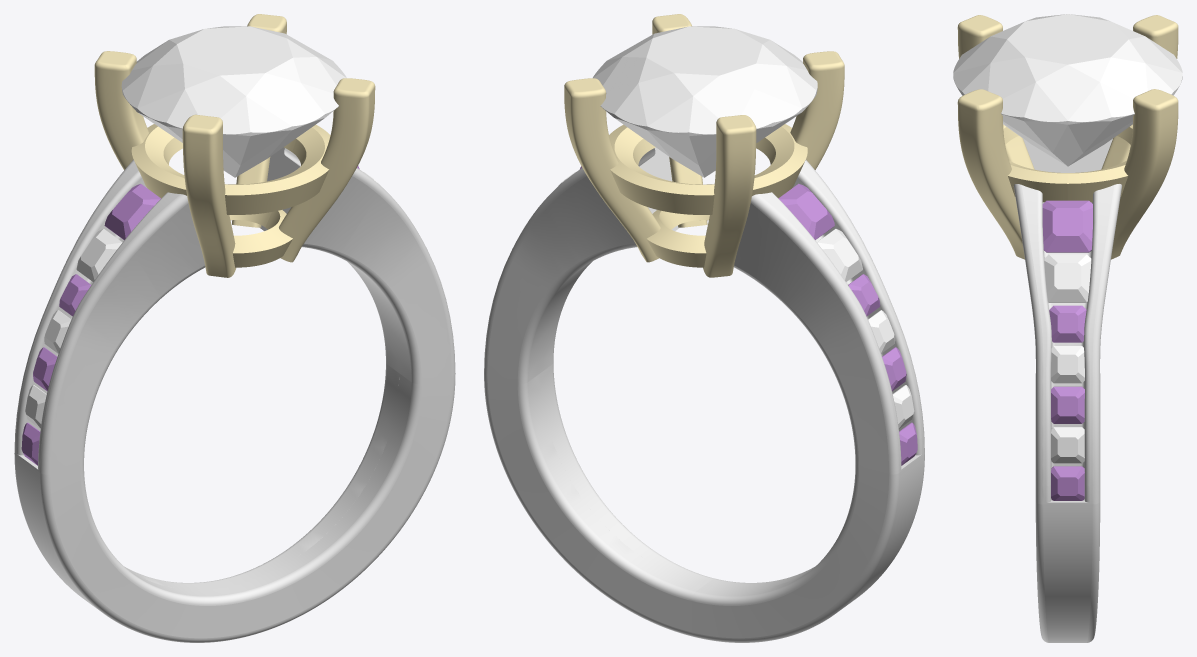
File: puzzle_61.glb
The picture shows the model from 3 angles, left to right: view 1: azimuth 30°, elevation 25°; view 2: azimuth 150°, elevation 25°; view 3: azimuth 270°, elevation 25°; orthographic projection.
Parts seen in each view (by area): view 1: G2_Obj_2_Gold2, G2_Obj_1_Dia_X, G2_Obj_6_Gold1, G2_Obj_7_Gold1, G2_Obj_4_Gold1, G2_Obj_3_Gold1, G2_Obj_5_Gold1, G1_Obj_8_Gem6, G1_Obj_12_Dia, G2_Obj_8_Gold1, G1_Obj_9_Gem6, G1_Obj_11_Dia (+2 smaller); view 2: G2_Obj_2_Gold2, G2_Obj_1_Dia_X, G2_Obj_6_Gold1, G2_Obj_8_Gold1, G2_Obj_3_Gold1, G2_Obj_4_Gold1, G2_Obj_5_Gold1, G1_Obj_8_Gem6, G2_Obj_7_Gold1, G1_Obj_12_Dia, G1_Obj_9_Gem6, G1_Obj_11_Dia (+2 smaller); view 3: G2_Obj_2_Gold2, G2_Obj_1_Dia_X, G2_Obj_8_Gold1, G2_Obj_7_Gold1, G2_Obj_6_Gold1, G1_Obj_7_Gem6, G1_Obj_13_Dia, G2_Obj_3_Gold1, G2_Obj_4_Gold1, G1_Obj_6_Gem6, G1_Obj_14_Dia, G1_Obj_5_Gem6 (+2 smaller).
Part boxes in pixels (<box>): G2_Obj_2_Gold2: <box>14,147,455,642</box>; G2_Obj_1_Dia_X: <box>121,26,346,177</box>; G2_Obj_6_Gold1: <box>131,124,330,214</box>; G2_Obj_7_Gold1: <box>279,78,375,262</box>; G2_Obj_4_Gold1: <box>182,114,236,277</box>; G2_Obj_3_Gold1: <box>94,51,149,169</box>; G2_Obj_5_Gold1: <box>229,210,292,267</box>; G1_Obj_8_Gem6: <box>104,184,160,240</box>; G1_Obj_12_Dia: <box>76,228,122,281</box>; G2_Obj_8_Gold1: <box>232,14,286,227</box>; G1_Obj_9_Gem6: <box>59,274,91,316</box>; G1_Obj_11_Dia: <box>44,310,71,353</box>; G2_Obj_2_Gold2: <box>484,147,924,642</box>; G2_Obj_1_Dia_X: <box>593,26,817,177</box>; G2_Obj_6_Gold1: <box>609,124,807,214</box>; G2_Obj_8_Gold1: <box>564,78,660,262</box>; G2_Obj_3_Gold1: <box>703,115,756,277</box>; G2_Obj_4_Gold1: <box>790,51,844,169</box>; G2_Obj_5_Gold1: <box>646,210,709,267</box>; G1_Obj_8_Gem6: <box>778,183,834,239</box>; G2_Obj_7_Gold1: <box>652,14,707,227</box>; G1_Obj_12_Dia: <box>817,228,862,281</box>; G1_Obj_9_Gem6: <box>848,274,880,316</box>; G1_Obj_11_Dia: <box>868,310,895,353</box>; G2_Obj_2_Gold2: <box>1013,138,1122,642</box>; G2_Obj_1_Dia_X: <box>953,14,1182,166</box>; G2_Obj_8_Gold1: <box>1111,89,1178,259</box>; G2_Obj_7_Gold1: <box>957,89,1024,259</box>; G2_Obj_6_Gold1: <box>1003,124,1132,202</box>; G1_Obj_7_Gem6: <box>1042,200,1092,252</box>; G1_Obj_13_Dia: <box>1044,254,1091,302</box>; G2_Obj_3_Gold1: <box>1101,15,1178,169</box>; G2_Obj_4_Gold1: <box>957,15,1034,169</box>; G1_Obj_6_Gem6: <box>1049,305,1086,342</box>; G1_Obj_14_Dia: <box>1051,346,1084,383</box>; G1_Obj_5_Gem6: <box>1051,386,1084,423</box>.
Bounding box in the file's own units: 1.95 × 2.58 × 0.924.
